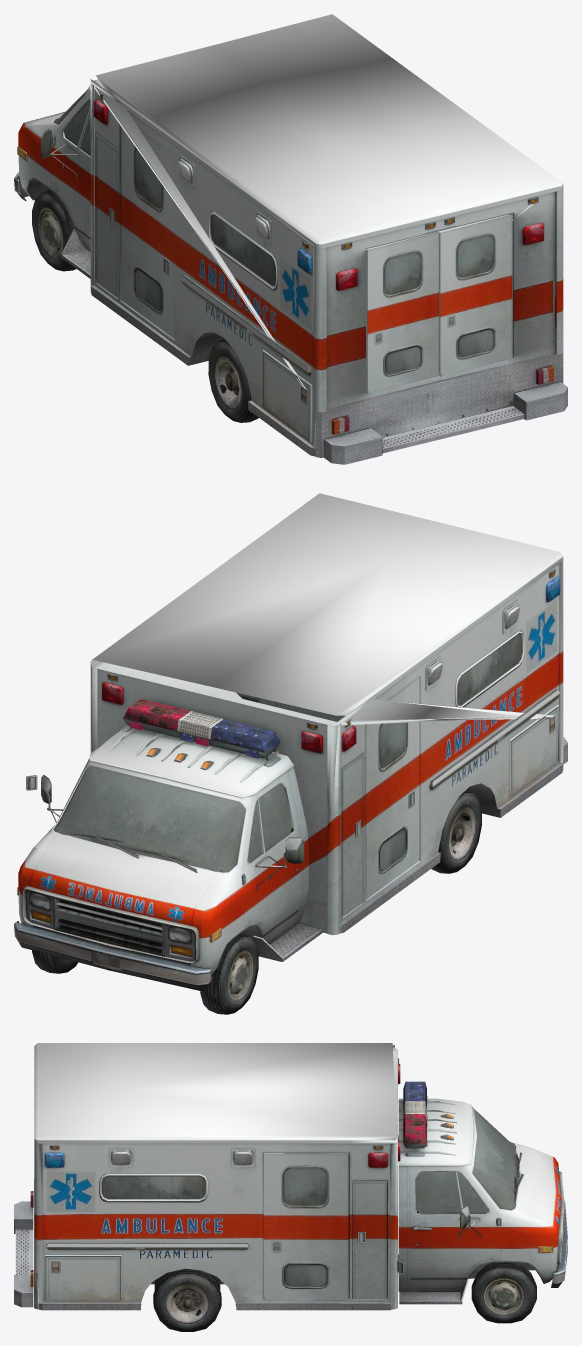
The model's file is Ambulance.FBX.
The picture shows the model from 3 angles, top to bottom: view 1: azimuth 30°, elevation 25°; view 2: azimuth 150°, elevation 25°; view 3: azimuth 270°, elevation 25°; orthographic projection. The views are drawn at different scales.
Parts seen in each view (by area): view 1: _null_; view 2: _null_; view 3: _null_.
Boxes of the visible parts, x1,y1,x2,y2 form: _null_: (14,14,567,464); _null_: (14,493,567,1014); _null_: (14,1043,567,1331).
Bounding box in the file's own units: 364 × 278 × 701.
1 material, 1 textured.
